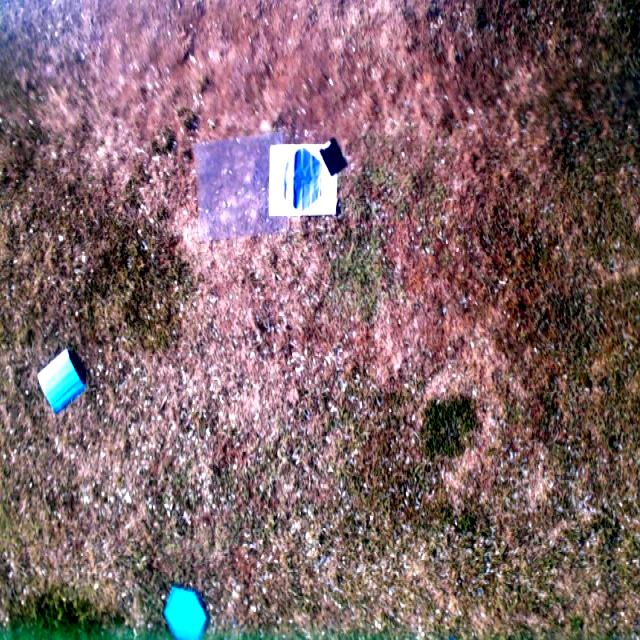blue_hexagon: (163, 584, 210, 640)
blue_square: (36, 347, 87, 415)
